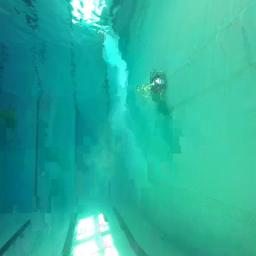front: (150, 70, 167, 96)
